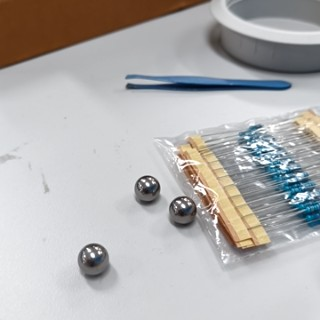ironball: (71, 242, 126, 286), (129, 167, 162, 206), (165, 193, 197, 229)
